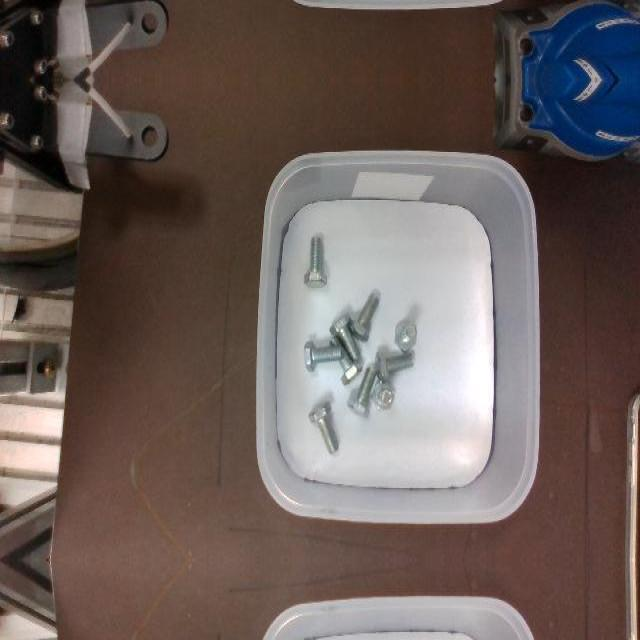screw: (308, 400, 339, 454), (347, 293, 379, 343), (328, 311, 360, 361), (346, 367, 376, 417), (375, 350, 414, 384), (303, 340, 343, 372), (304, 236, 327, 286), (394, 319, 416, 353), (370, 381, 394, 411)
